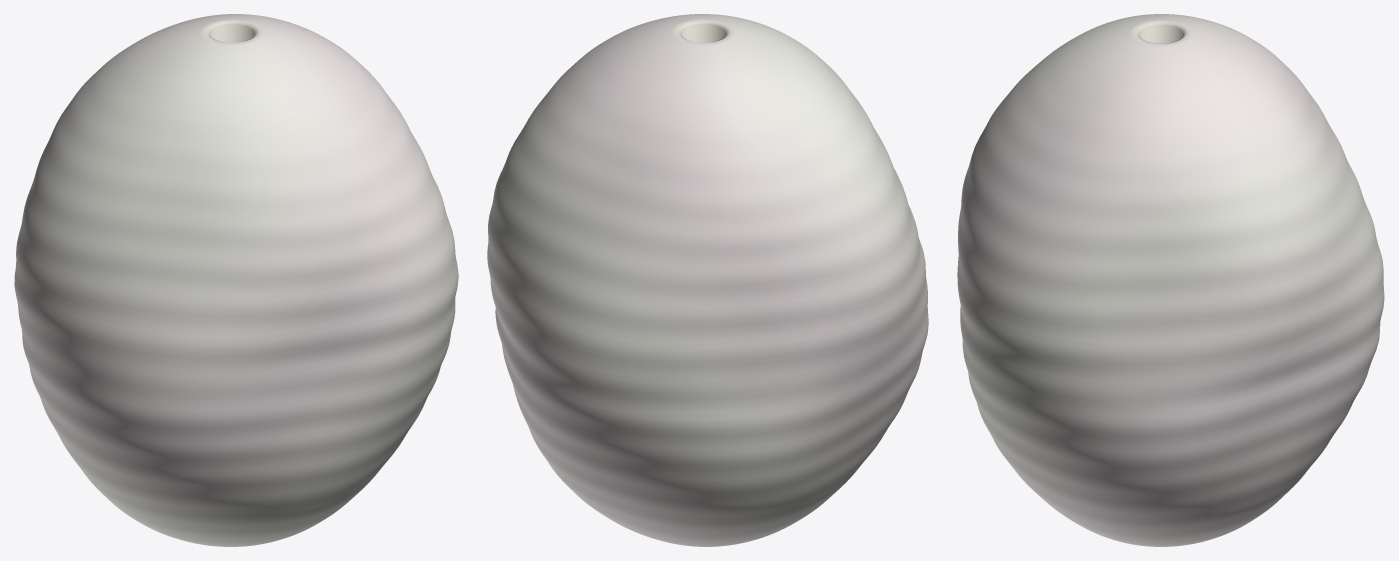
File: pearl-ref-10.glb
The picture shows the model from 3 angles, left to right: view 1: azimuth 30°, elevation 25°; view 2: azimuth 150°, elevation 25°; view 3: azimuth 270°, elevation 25°; orthographic projection.
Visible parts, largest first — view 1: pearl-ref-10; view 2: pearl-ref-10; view 3: pearl-ref-10.
Boxes of the visible parts, left/top/right/bottom form: pearl-ref-10: left=14, top=14, right=458, bottom=546; pearl-ref-10: left=487, top=14, right=928, bottom=546; pearl-ref-10: left=957, top=14, right=1384, bottom=546.
Size of the model in its own units: 0.00812 by 0.00993 by 0.00775.
2 materials, 1 textured.
